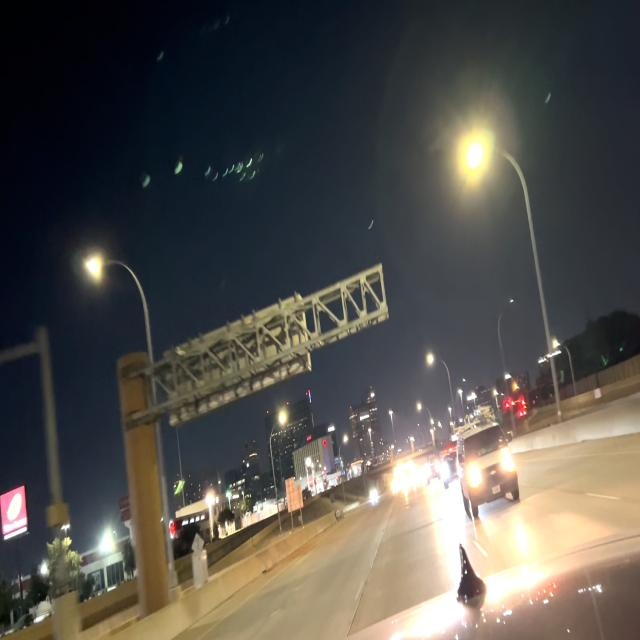back-of-sign: (165, 293, 312, 426), (284, 473, 304, 515), (190, 531, 205, 558)
